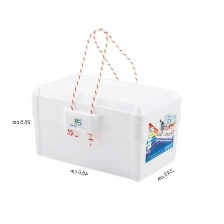foam_box: (27, 20, 187, 185)
